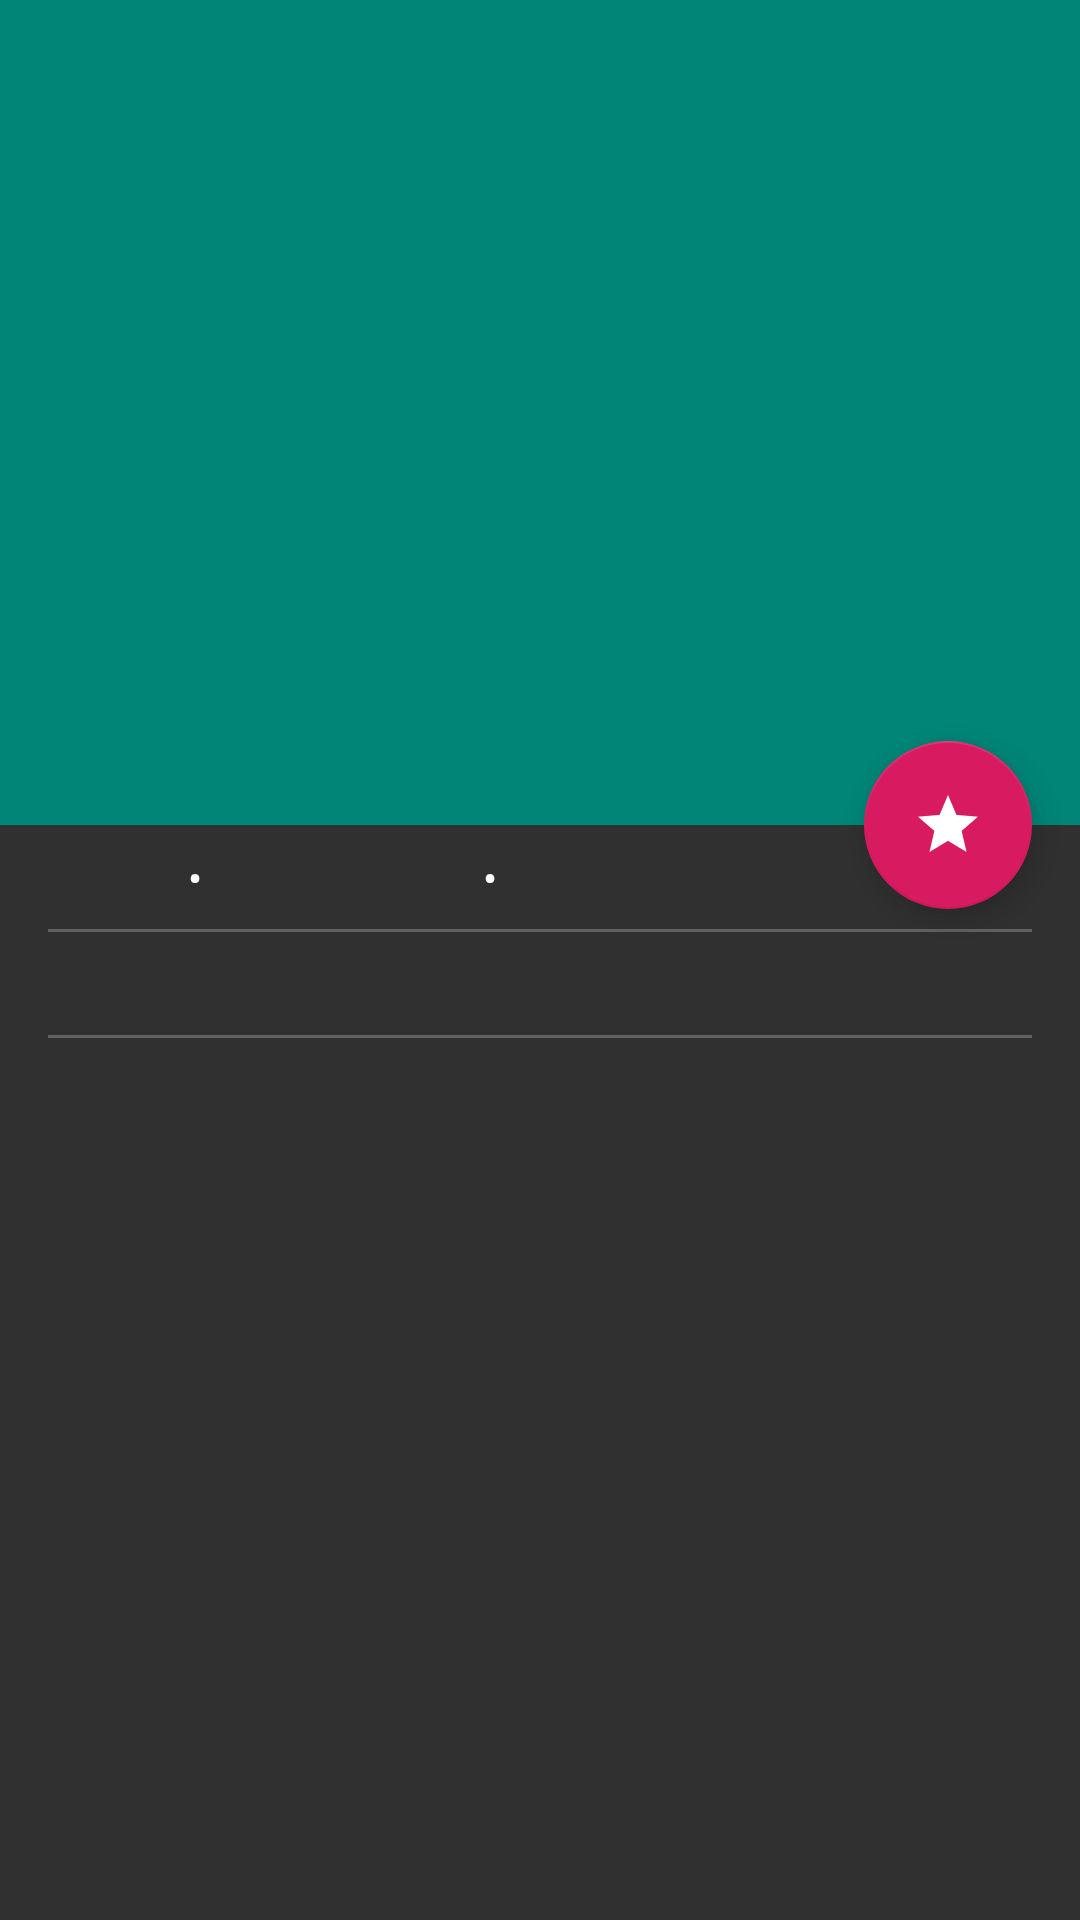

Point at icon controls on the screen. Image size 1080*1920, points as point (x, y).
star: point (948, 825)
